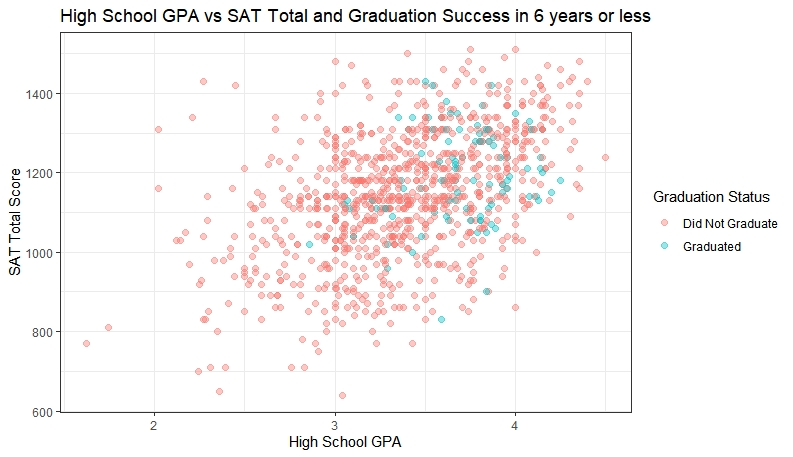

This screenshot's page, from the dashboard's own definition file:
{"tool":"tableau","page":{"name":"Dashboard 1","canvas":[800,500],"ordinal":0},"visuals":[{"type":"worksheet","title":"Sheet 1","mark":"Automatic","rows":["A","B"],"cols":["Agree (copy)_1437492741480001537","Calculation_1437492741479895040"],"box":[8,8,784,484]},{"type":"legend","title":"Sheet 1","param":"[federated.05f93y21k277er1e6bovs163s65s].[:Measure Names]","box":[223,61,336,34]}]}

Visuals, with their boxes on the page's 800x500 design canvas (x1, y1, x2, y2). These are canvas units, not pixel positions in the 793x457 screenshot, which may show the page scaled, cropped or inside an application window:
"Sheet 1" worksheet: 8,8,792,492
"Sheet 1" legend: 223,61,559,95
